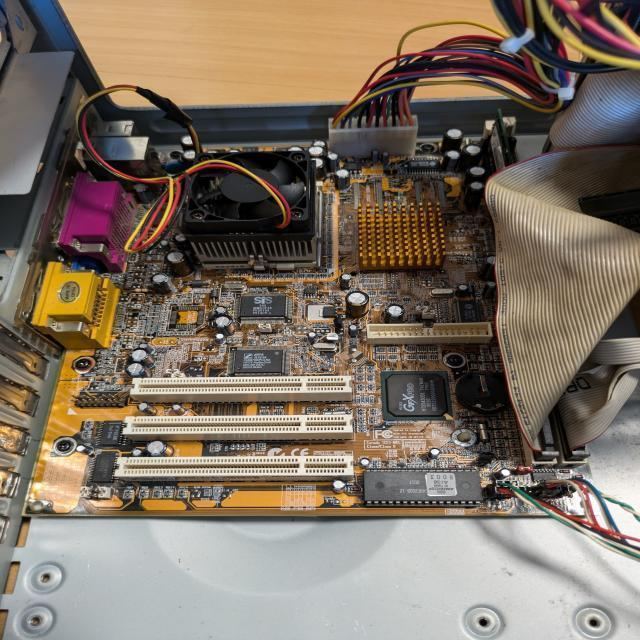CPU_Fan: (184, 148, 322, 264)
Mainboard: (18, 133, 590, 518)
RAM: (486, 110, 514, 168)
